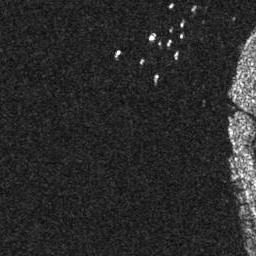ship: (147, 31, 157, 41), (114, 49, 122, 59), (153, 73, 159, 85), (174, 51, 180, 60), (178, 33, 185, 40), (169, 2, 175, 10), (166, 40, 172, 47), (180, 20, 184, 28), (140, 59, 144, 65)
